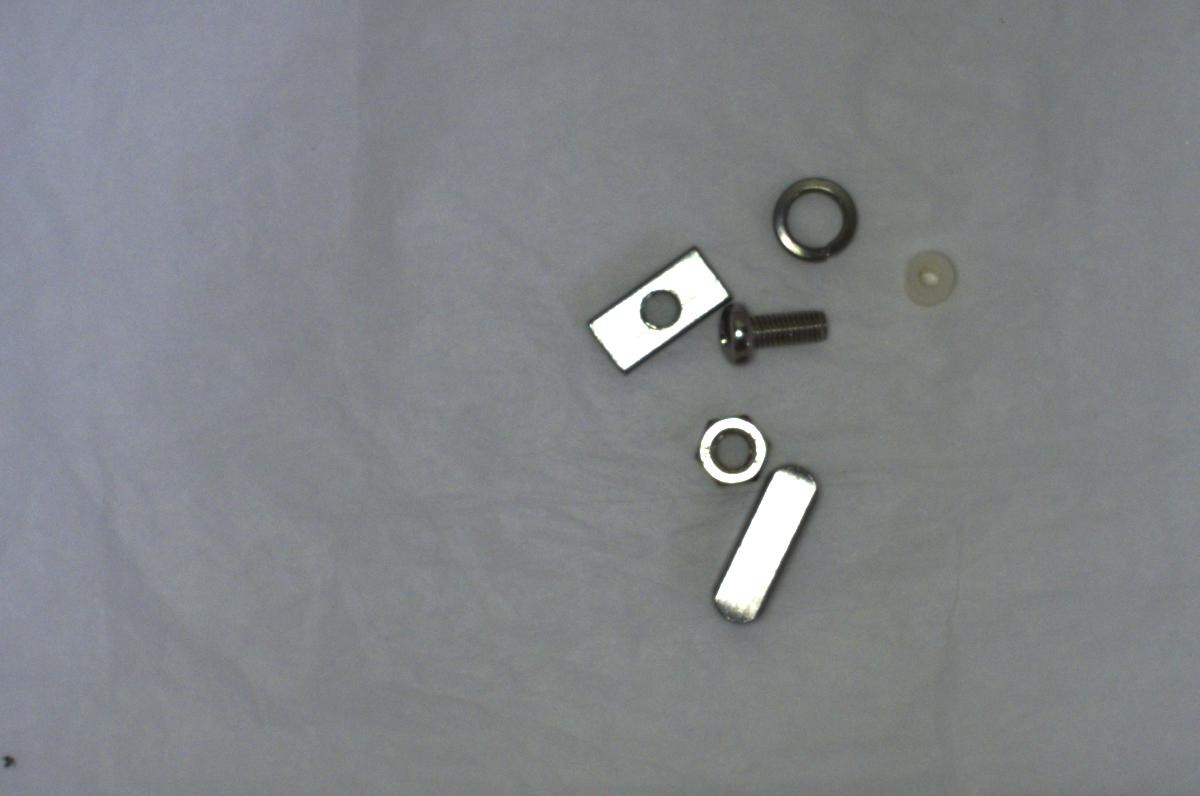Hexagon nut: (695, 402, 766, 487)
Keybar: (700, 462, 824, 626)
Plastic cushion pillar: (898, 243, 958, 308)
Rectangular nut: (574, 241, 737, 379)
Round head screw: (717, 289, 832, 376)
Spring washer: (759, 172, 865, 273)
